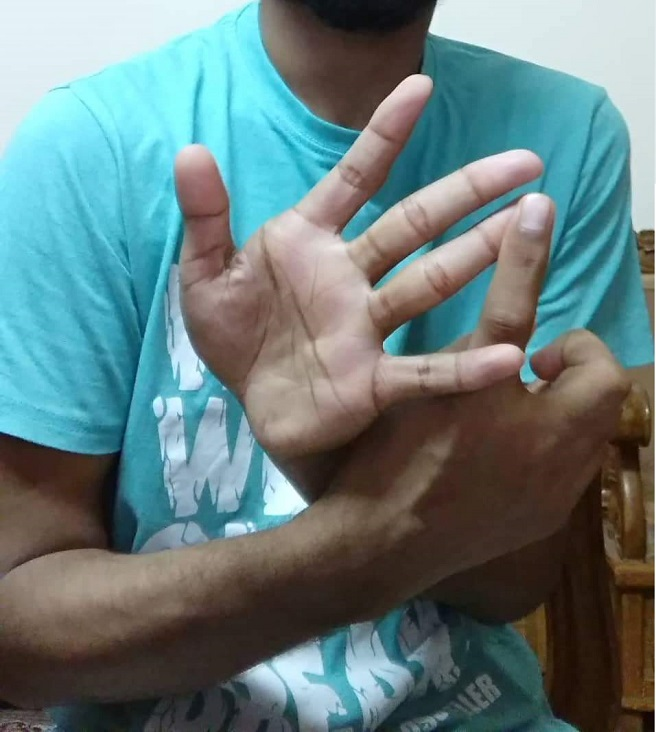e: (169, 71, 617, 579)
